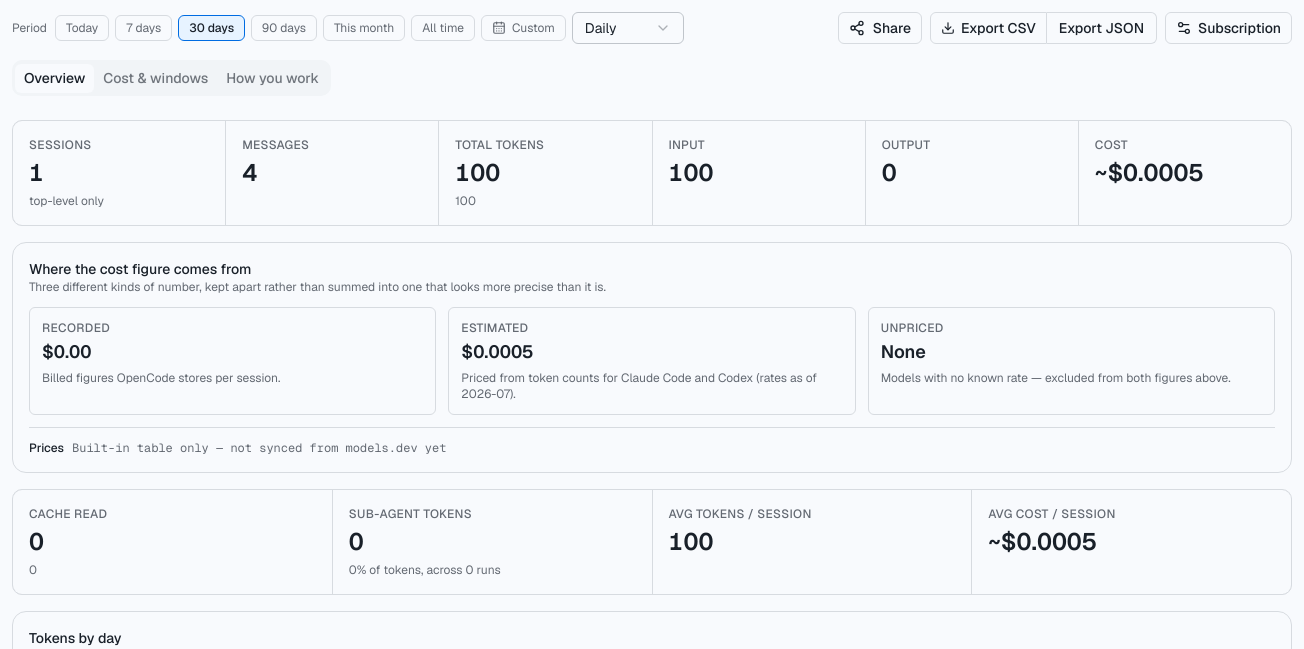
UsageDashboard — shell › groups Today by day and says why the control is disabled
What coordinates should you click on to do the following:
click the dropdown named "Group by"
I would click on:
 (628, 28)
Its box is 572,12 -> 684,44.
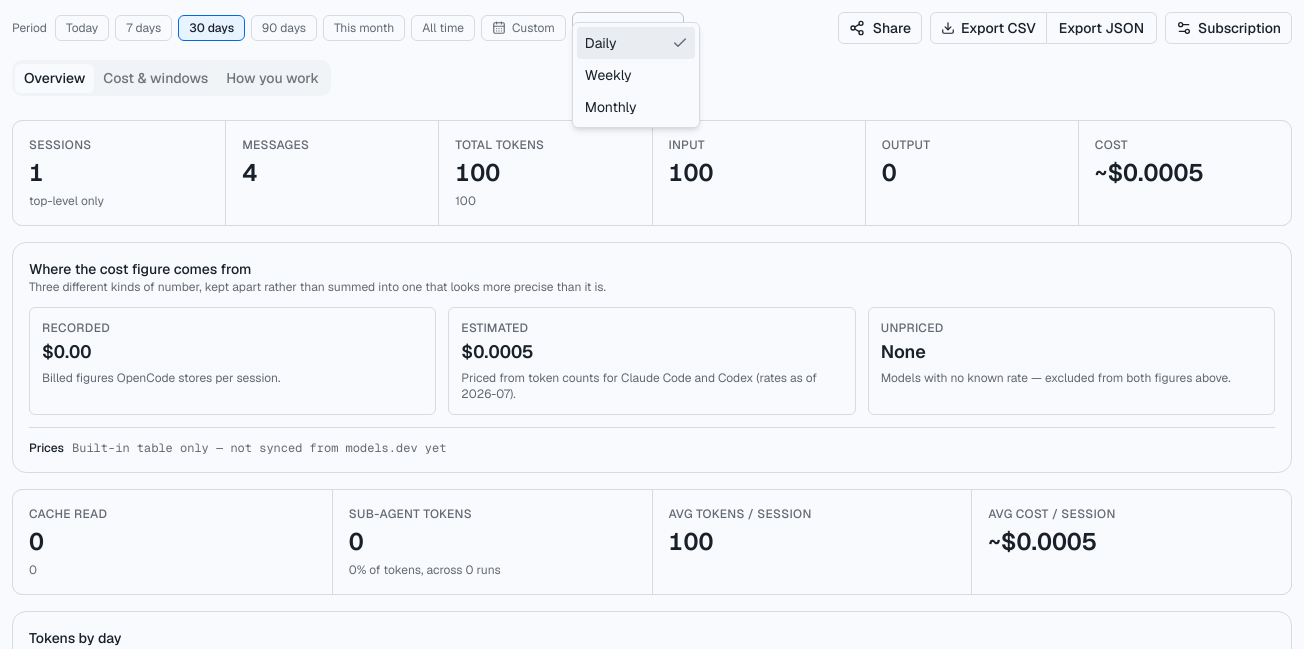
What coordinates should you click on to do the following:
click the option "Weekly"
I would click on:
 (608, 75)
Its box is 585,66 -> 632,84.
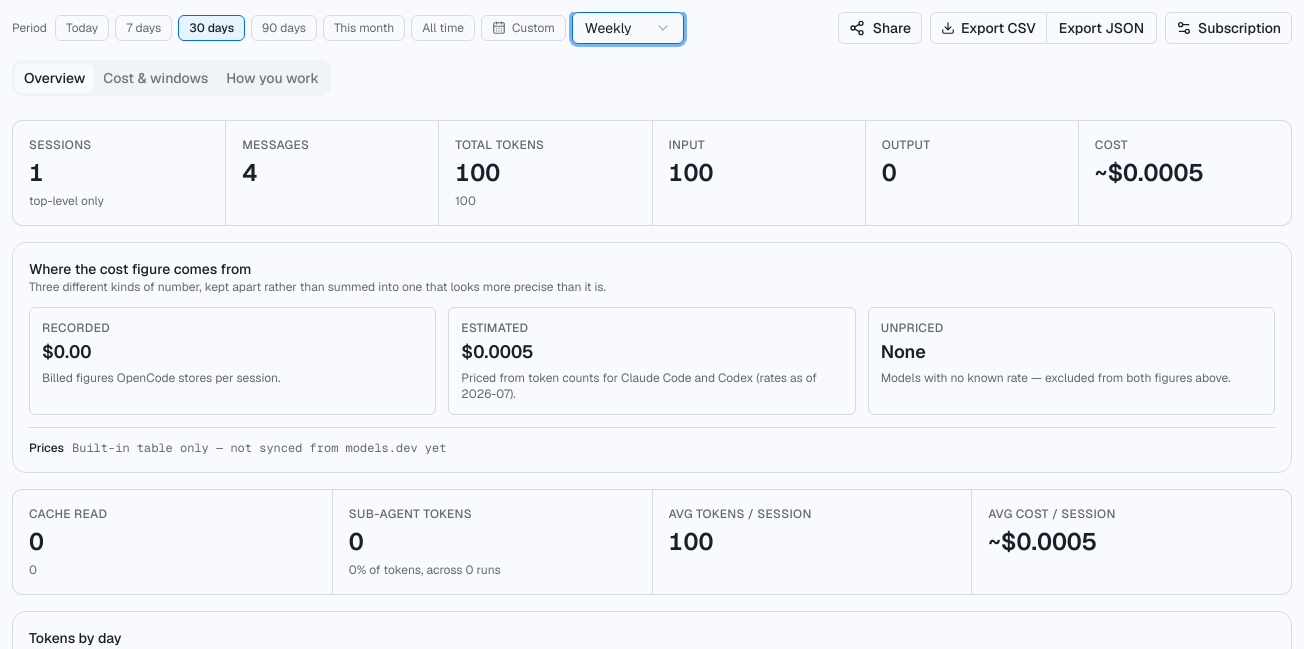
What coordinates should you click on to do the following:
click the button "Today"
I would click on:
 (82, 28)
Its box is 55,15 -> 109,41.
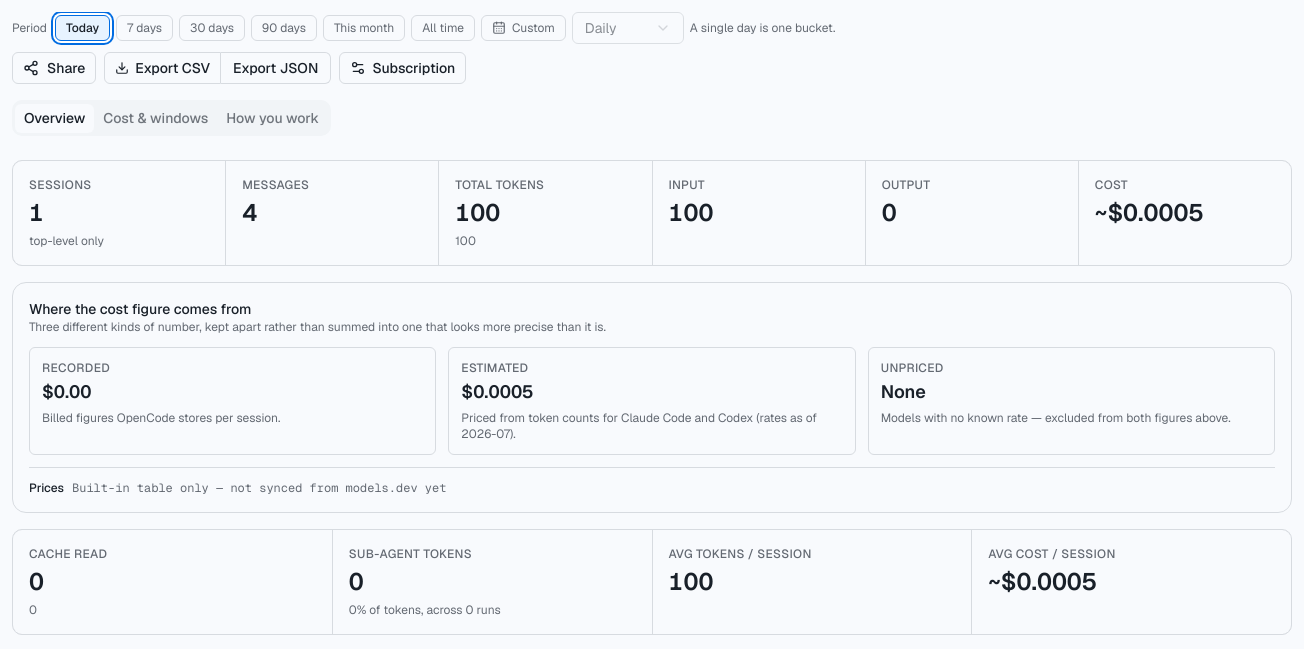
Expected: the dropdown named "Group by" is disabled, 572,12 -> 684,44
Expected: the dropdown named "Group by" reads "Daily", 572,12 -> 684,44
Expected: the text "A single day is one bucket." is shown, 690,20 -> 835,36
